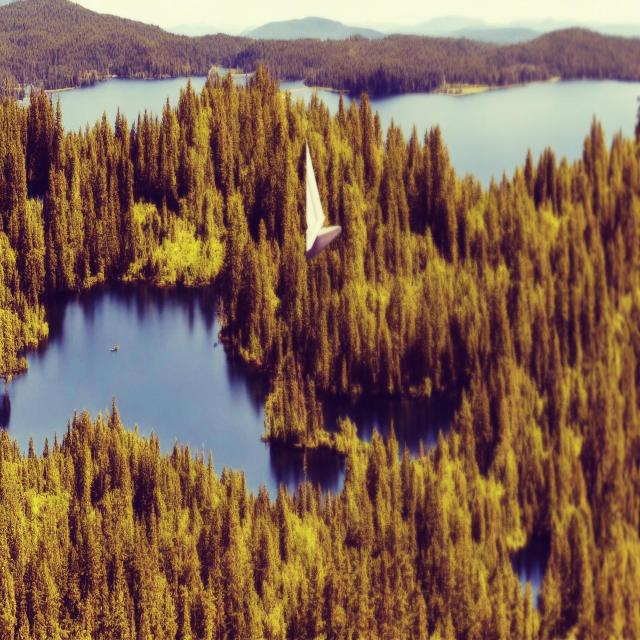airplane: (304, 140, 342, 262)
